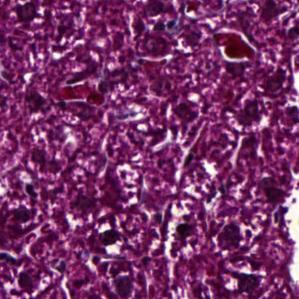inflammation: (130, 29, 193, 64), (214, 27, 257, 65), (212, 217, 257, 252), (95, 219, 131, 256)
